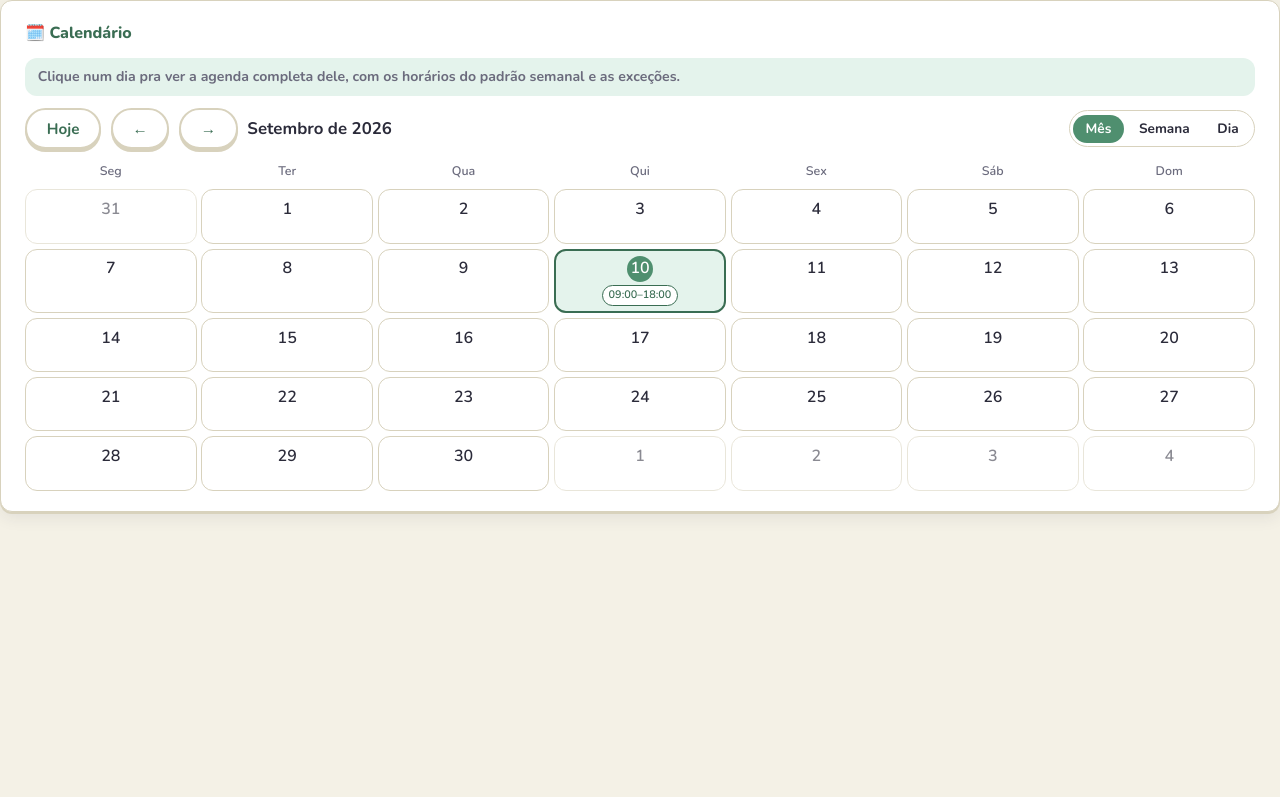
Test case: EscalaCalendarioPainel › mostra o botão de cancelar só pra quem criou a reunião
Step 1. Click the button "10 09:00–18:00" → (640, 281), box [554,248,726,313]
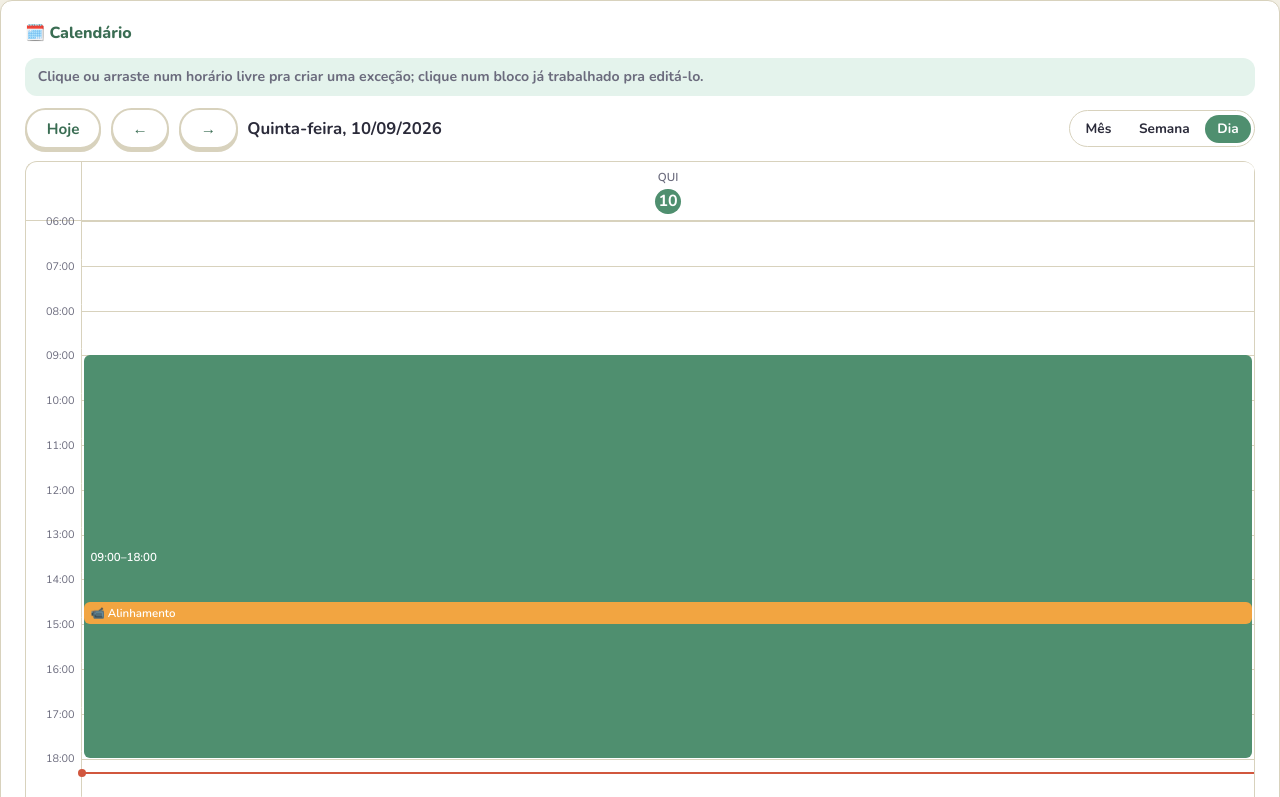
Step 2. Click the button "📹 Alinhamento" → (142, 613), box [84,602,1252,624]
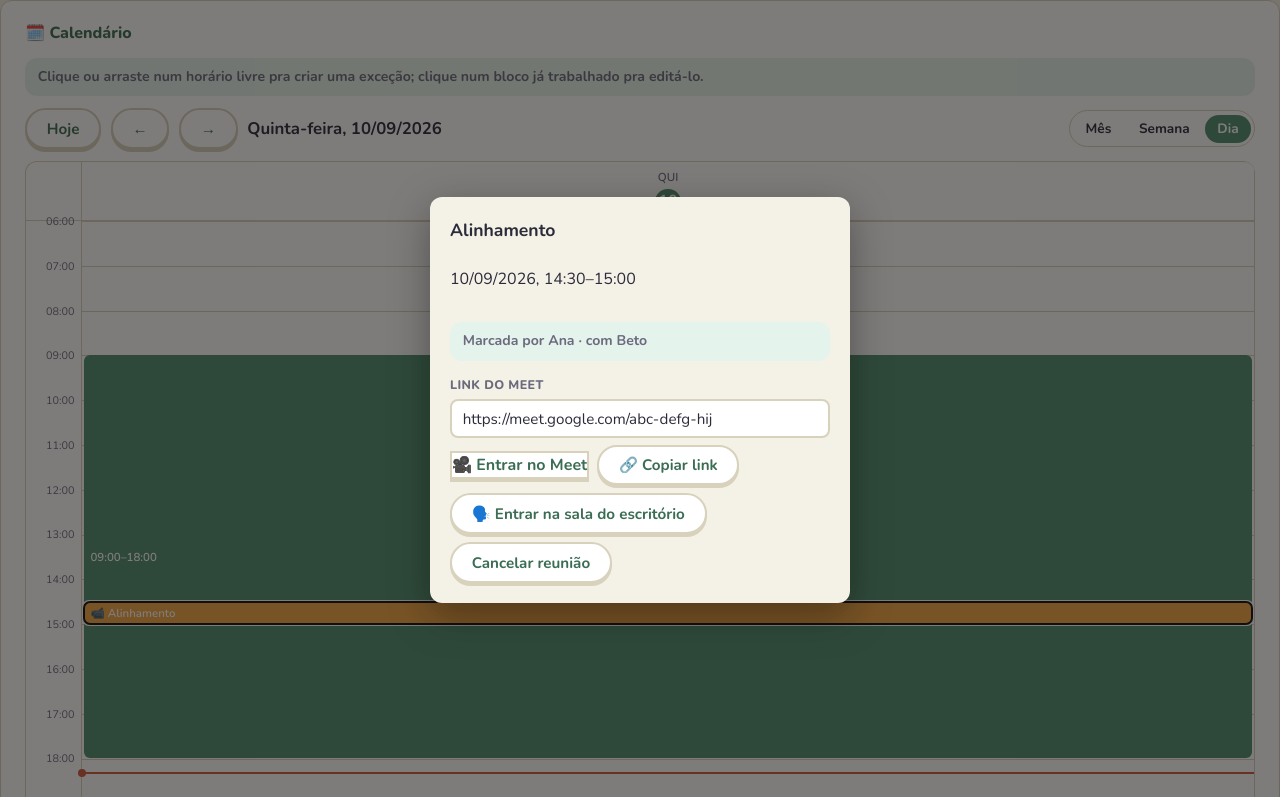
Result: the button "Cancelar reunião" is shown at [450,542,612,583]
